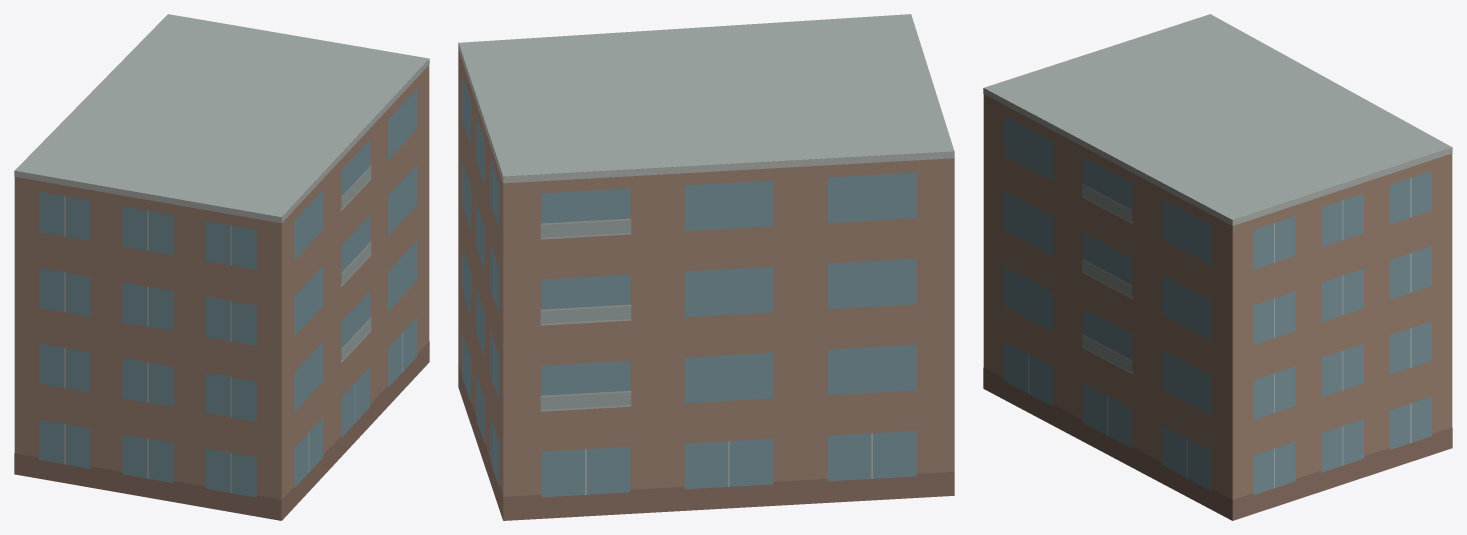
The model's file is survey-upis-32657138.glb.
3 renders of one model, left to right at view 1: azimuth 30°, elevation 25°; view 2: azimuth 150°, elevation 25°; view 3: azimuth 270°, elevation 25°, orthographic. The views are drawn at different scales.
Parts seen in each view (by area): view 1: survey-upis-32657138.tmp; view 2: survey-upis-32657138.tmp; view 3: survey-upis-32657138.tmp.
Part boxes in pixels (x1,y1,x2,y2): survey-upis-32657138.tmp: (14, 14, 429, 520); survey-upis-32657138.tmp: (458, 14, 954, 520); survey-upis-32657138.tmp: (983, 14, 1452, 520).
Bounding box in the file's own units: 17.93 × 12.2 × 17.24.
